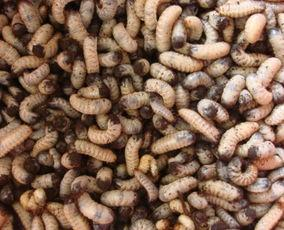grub: (157, 2, 179, 54)
